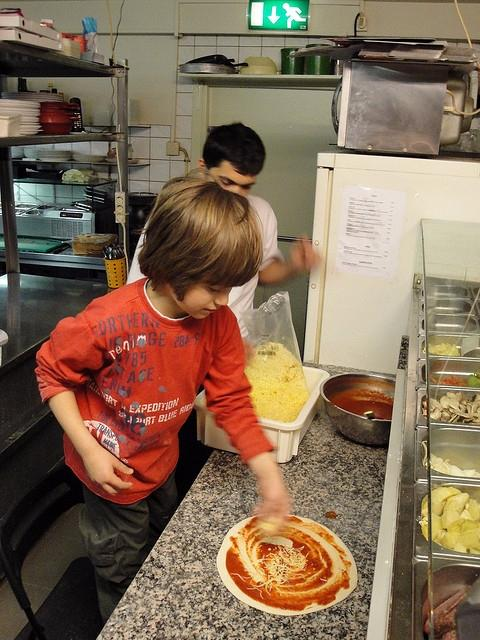mushroom: (430, 398, 444, 411), (447, 392, 463, 403), (430, 407, 441, 420), (469, 393, 480, 405), (440, 396, 450, 409), (449, 399, 460, 409), (469, 412, 480, 422), (440, 412, 450, 422), (456, 411, 470, 418), (471, 403, 480, 413), (448, 414, 458, 422), (459, 404, 467, 410), (423, 402, 426, 409)
